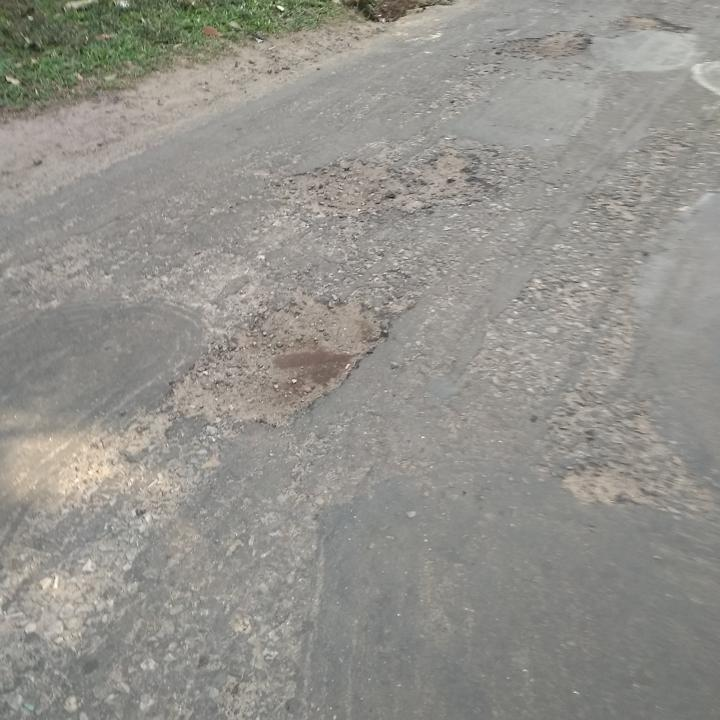pothole: (160, 288, 396, 433), (269, 150, 499, 219), (490, 27, 594, 65), (619, 11, 693, 39)
